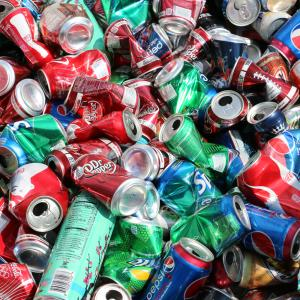metal: (154, 108, 241, 182), (66, 149, 145, 220), (135, 235, 216, 300), (8, 157, 69, 229), (31, 0, 100, 56), (63, 73, 141, 122), (61, 110, 140, 151)
